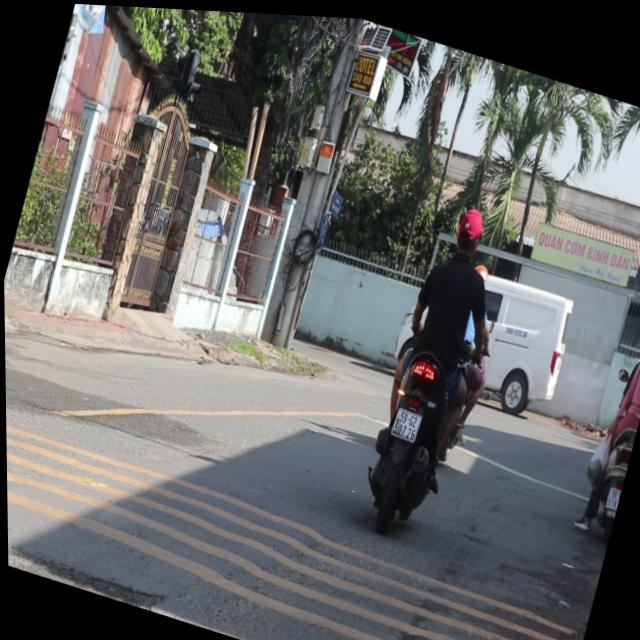licenseplate: (343, 184, 525, 546), (565, 293, 640, 536)
motorcyclist: (447, 198, 489, 256)
nohelmet: (388, 402, 420, 438), (604, 479, 620, 502)
